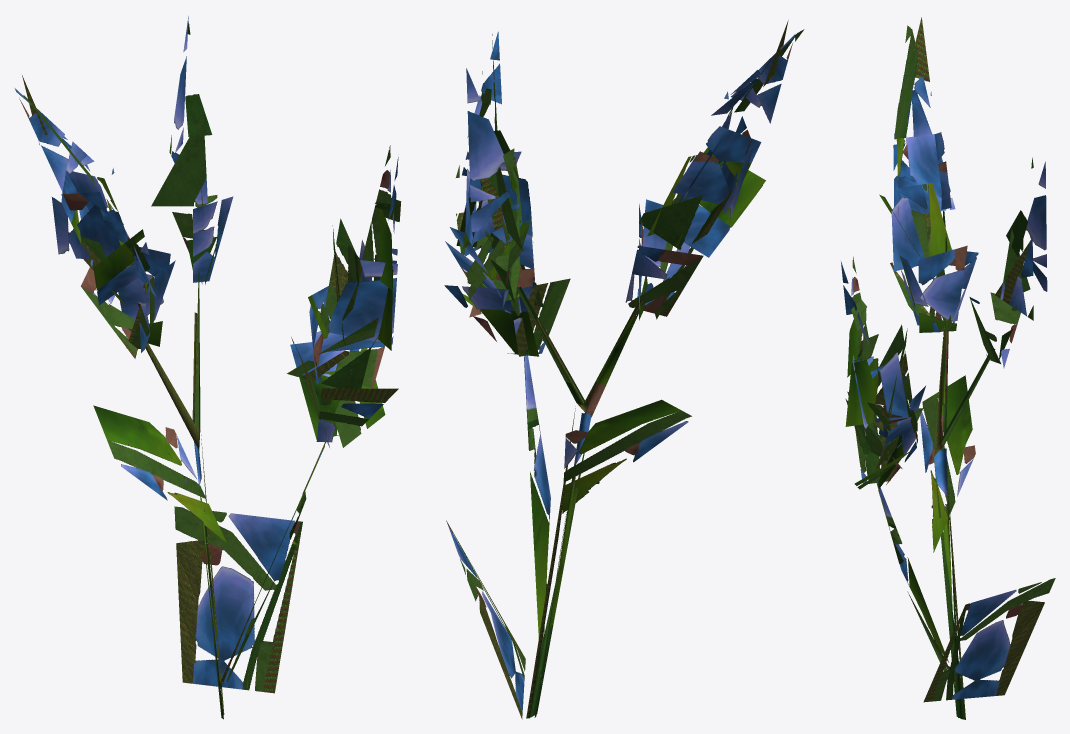
The model's file is flowers.glb.
3 views of the same model, side by side, from view 1: azimuth 30°, elevation 25°; view 2: azimuth 150°, elevation 25°; view 3: azimuth 270°, elevation 25° (orthographic). The views are drawn at different scales.
Visible parts, largest first — view 1: flowers; view 2: flowers; view 3: flowers.
Part boxes in pixels (bbox=[...]): flowers: bbox=[14, 16, 401, 719]; flowers: bbox=[444, 20, 804, 719]; flowers: bbox=[841, 17, 1055, 719].
Size of the model in its own units: 0.4889 by 0.8891 by 0.2867.
Materials: 1 (1 with a texture image).
